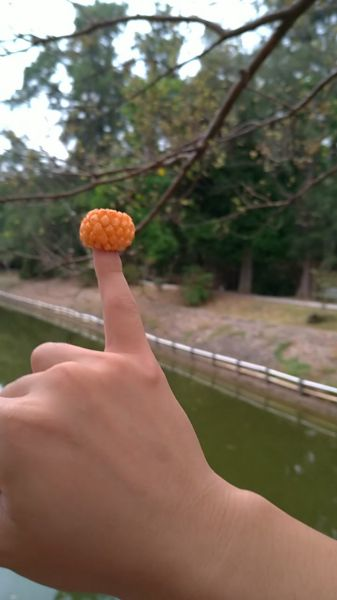eggs: (78, 206, 135, 253)
